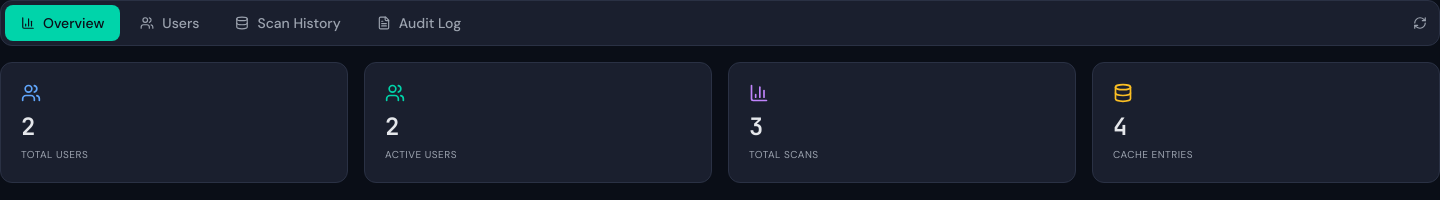
AdminTable › renders admin stats and lets the user table update a plan
The image size is (1440, 200).
Expected: the text "Total Users" is shown, [21, 148, 88, 161]
Expected: the text "4" is shown, [1113, 111, 1127, 142]
Click the button "Users" at (170, 23), box [124, 5, 216, 41]
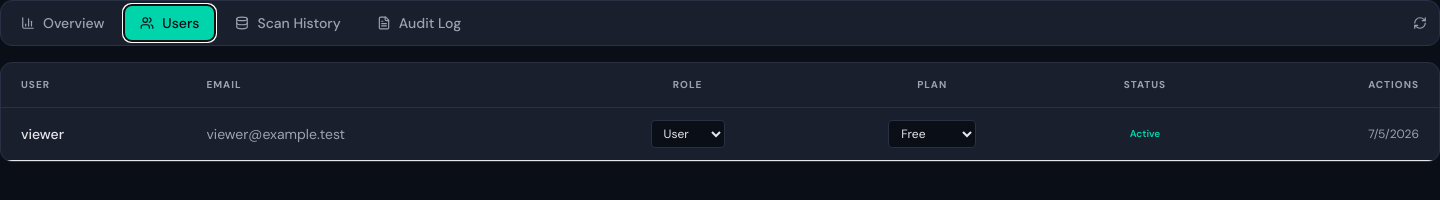
Result: the text "viewer@example.test" is shown at [194, 108, 574, 160]
Select "Premium" in the 2nd dropdown showing "Free" at (932, 134), box [888, 120, 976, 148]
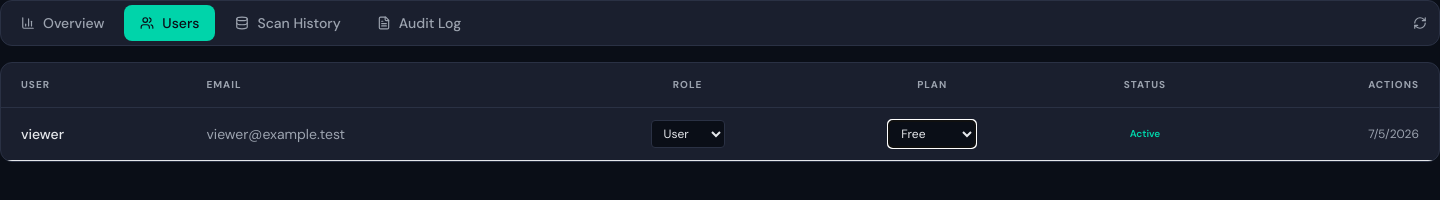
Click the button "Audit Log" at (419, 23), box [361, 5, 477, 41]
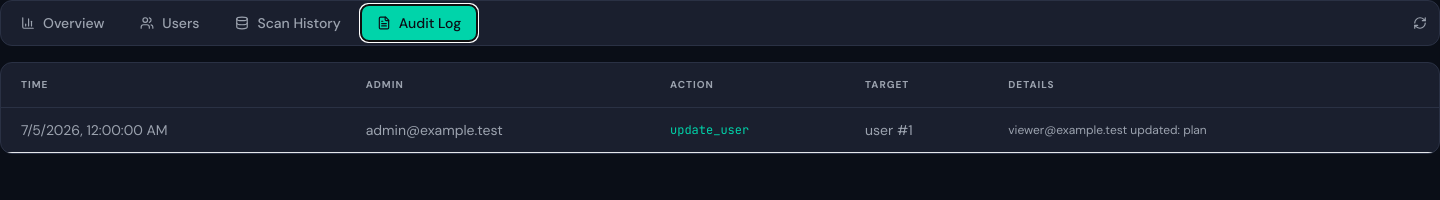
Result: the text "update_user" is shown at [658, 108, 853, 152]
Result: the text "viewer@example.test updated: plan" is shown at [988, 108, 1439, 152]
